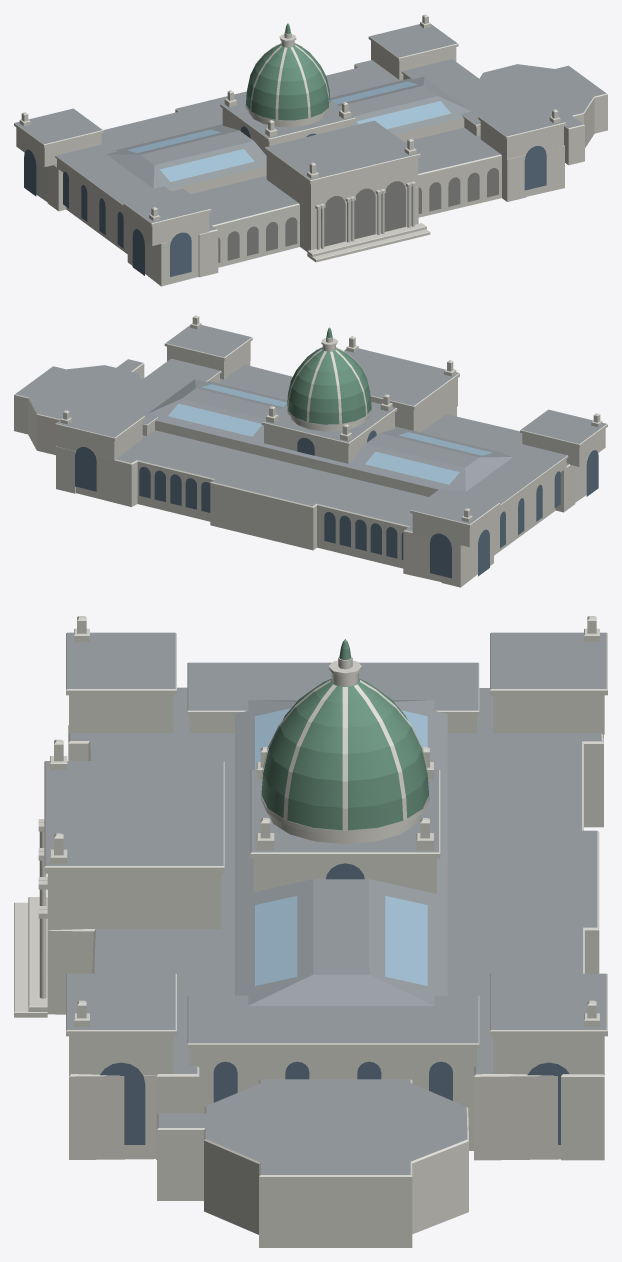
Rendered from phl-memorial-hall.glb.
3 renders of one model, top to bottom at view 1: azimuth 30°, elevation 25°; view 2: azimuth 150°, elevation 25°; view 3: azimuth 270°, elevation 25°, orthographic. The views are drawn at different scales.
Parts seen in each view (by area): view 1: Memorial Hall; view 2: Memorial Hall; view 3: Memorial Hall.
Boxes of the visible parts, x1,y1,x2,y2 form: Memorial Hall: [14, 14, 607, 286]; Memorial Hall: [14, 315, 607, 587]; Memorial Hall: [14, 616, 607, 1247].
Bounding box in the file's own units: 144 × 44.6 × 74.4.
